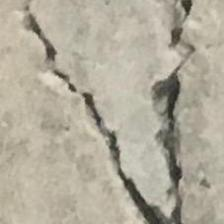Crack: (14, 2, 224, 224)
